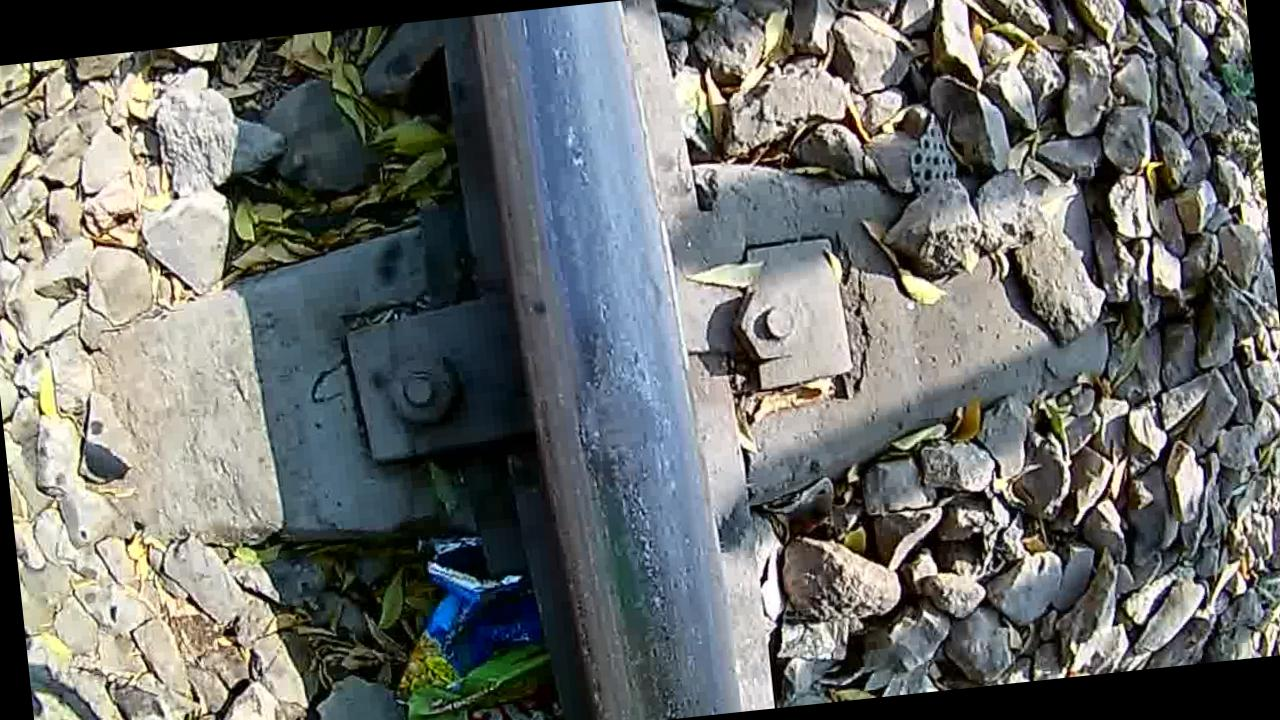bolt_missing: (499, 229, 711, 578)
